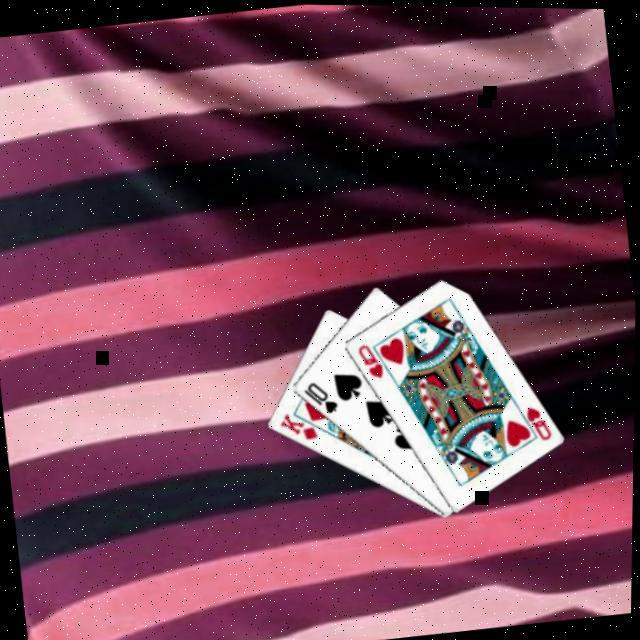10S: (301, 377, 343, 419)
KD: (277, 407, 323, 447)
QH: (515, 400, 558, 444), (356, 340, 390, 383)
